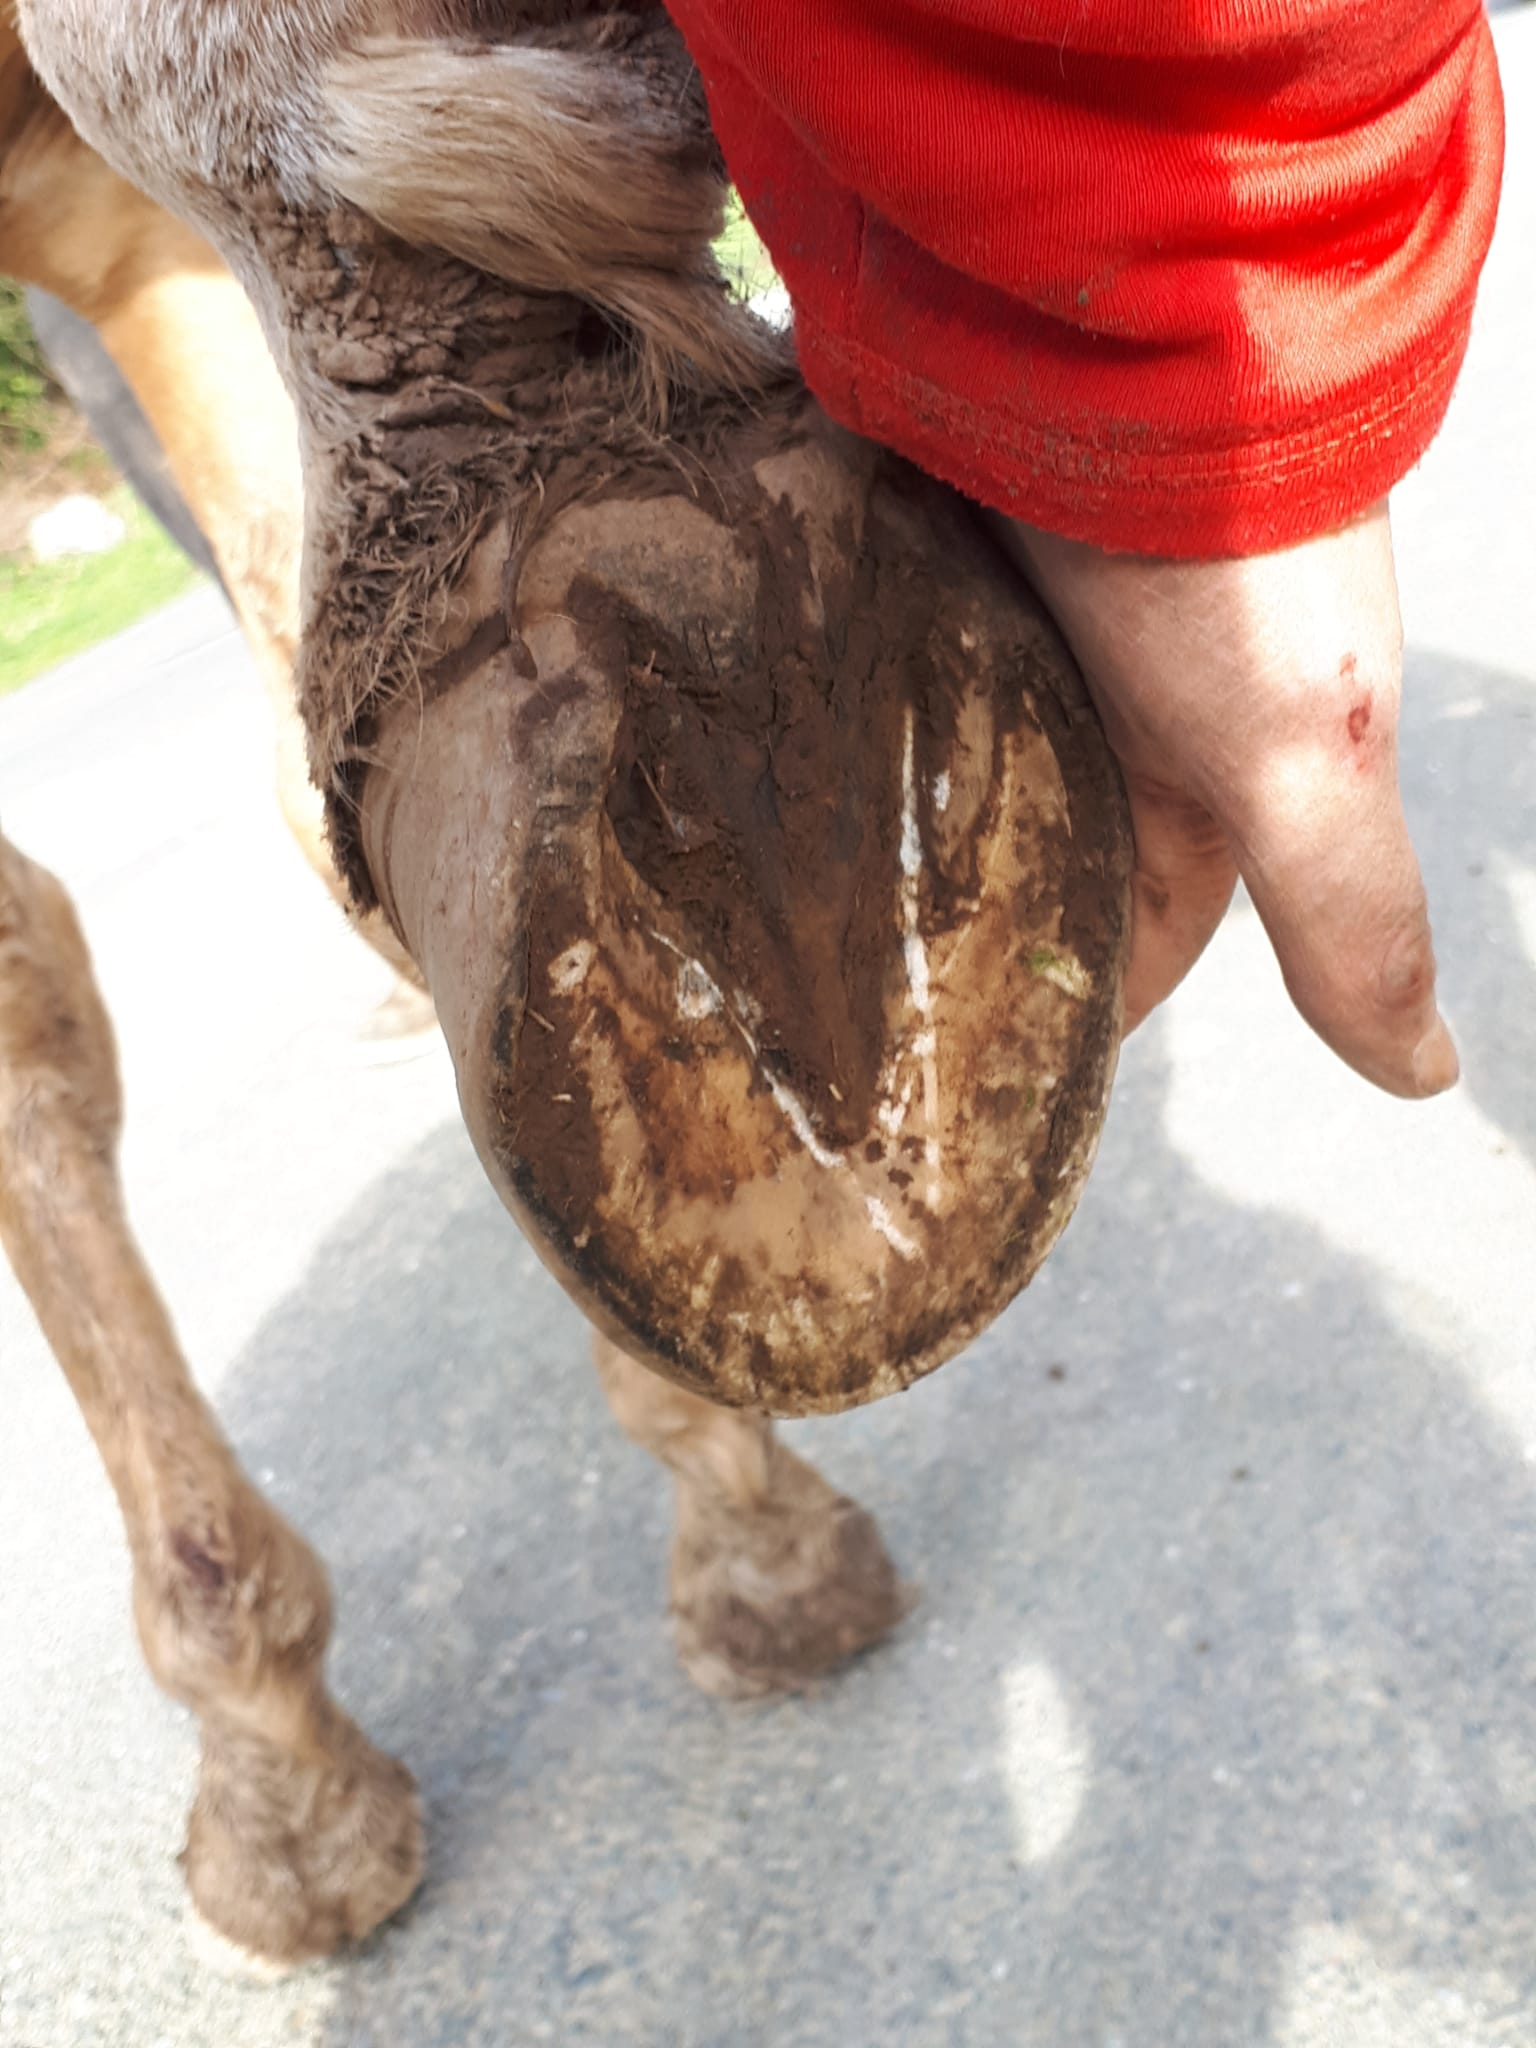horsesole: (463, 514, 1129, 1421)
